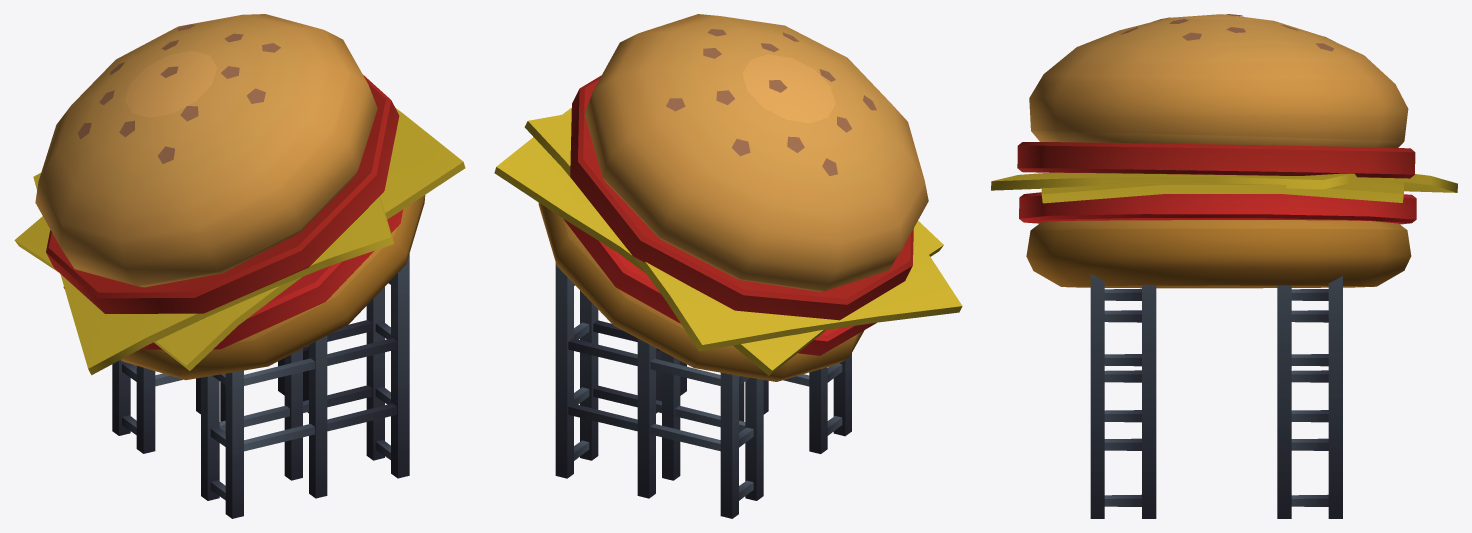
Rendered from BurgerSign_2_C.fbx.
3 renders of one model, left to right at view 1: azimuth 30°, elevation 25°; view 2: azimuth 150°, elevation 25°; view 3: azimuth 270°, elevation 25°, orthographic. The views are drawn at different scales.
Parts seen in each view (by area): view 1: BurgerSign_2_C; view 2: BurgerSign_2_C; view 3: BurgerSign_2_C.
Part boxes in pixels (left/top/right/bottom): BurgerSign_2_C: left=14, top=14, right=465, bottom=518; BurgerSign_2_C: left=494, top=14, right=962, bottom=518; BurgerSign_2_C: left=991, top=14, right=1457, bottom=518.
Bounding box in the file's own units: 358 × 402 × 388.
